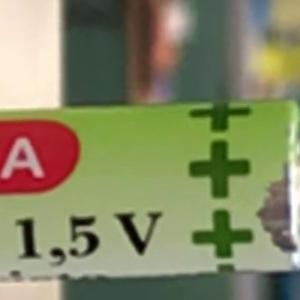1,5V: (1, 202, 168, 288)
